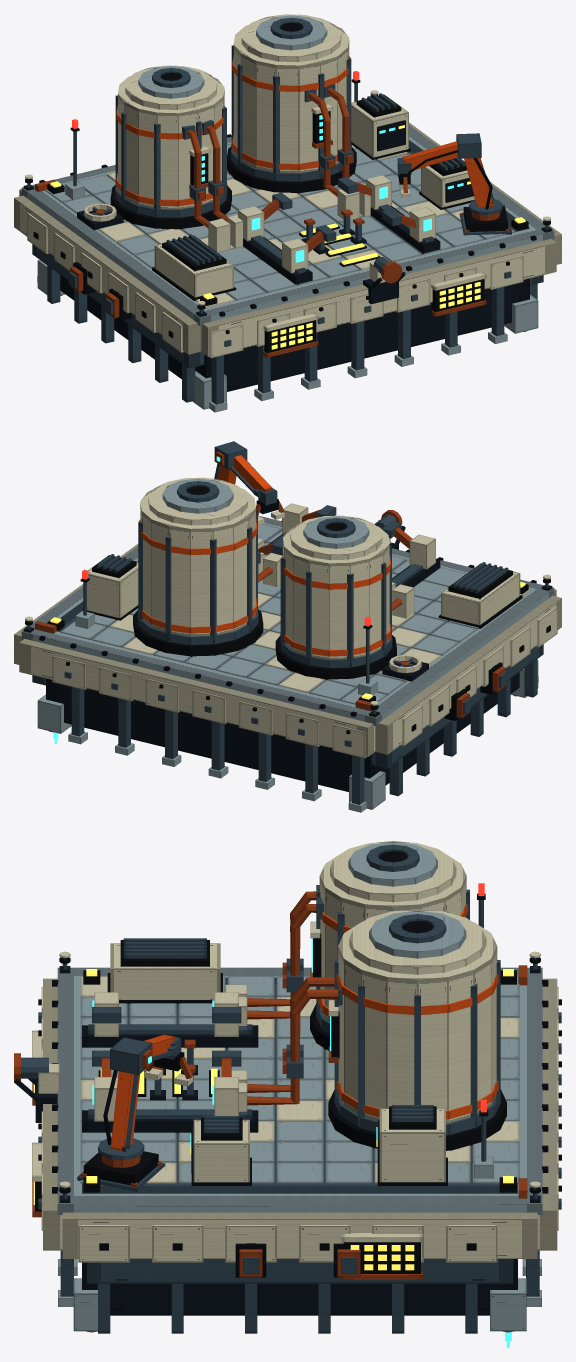
File: service_relay.glb
3 views of the same model, one above another, from view 1: azimuth 30°, elevation 25°; view 2: azimuth 150°, elevation 25°; view 3: azimuth 270°, elevation 25° (orthographic). The views are drawn at different scales.
Parts seen in each view (by area): view 1: refuel_and_repair_static / module, repair_manipulator_upper_arm / module, Ship_02_RefuelingCarrier / connected pressure berth / module, repair_manipulator_forearm_and_gripper / module, Ship_14_RepairCradle / locking saddles / module, Service / coolant pump / fixed grille rim / module; view 2: refuel_and_repair_static / module, repair_manipulator_forearm_and_gripper / module, repair_manipulator_upper_arm / module, Service / coolant pump / fixed grille rim / module; view 3: refuel_and_repair_static / module, repair_manipulator_upper_arm / module, Ship_02_RefuelingCarrier / connected pressure berth / module, repair_manipulator_forearm_and_gripper / module, Ship_14_RepairCradle / locking saddles / module.
Part boxes in pixels (x1,y1,x2,y2): refuel_and_repair_static / module: (14,14,561,412); repair_manipulator_upper_arm / module: (456,133,511,235); Ship_02_RefuelingCarrier / connected pressure berth / module: (363,257,405,304); repair_manipulator_forearm_and_gripper / module: (397,141,457,197); Ship_14_RepairCradle / locking saddles / module: (301,209,366,254); Service / coolant pump / fixed grille rim / module: (77,203,123,230); refuel_and_repair_static / module: (14,477,561,812); repair_manipulator_forearm_and_gripper / module: (230,455,284,524); repair_manipulator_upper_arm / module: (214,441,247,484); Service / coolant pump / fixed grille rim / module: (382,655,428,681); refuel_and_repair_static / module: (32,841,561,1333); repair_manipulator_upper_arm / module: (77,1037,165,1191); Ship_02_RefuelingCarrier / connected pressure berth / module: (14,1053,59,1122); repair_manipulator_forearm_and_gripper / module: (143,1034,193,1086); Ship_14_RepairCradle / locking saddles / module: (150,1039,197,1100).
Size of the model in its own units: 25.44 by 15.7 by 22.37.
Materials: 10 (10 with a texture image).
